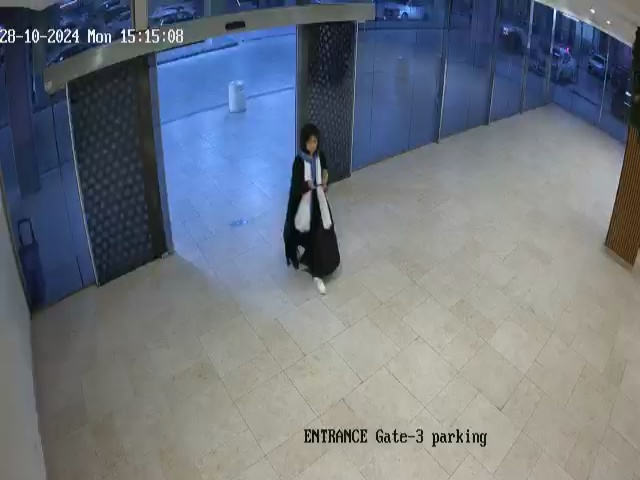female: (282, 123, 340, 295)
